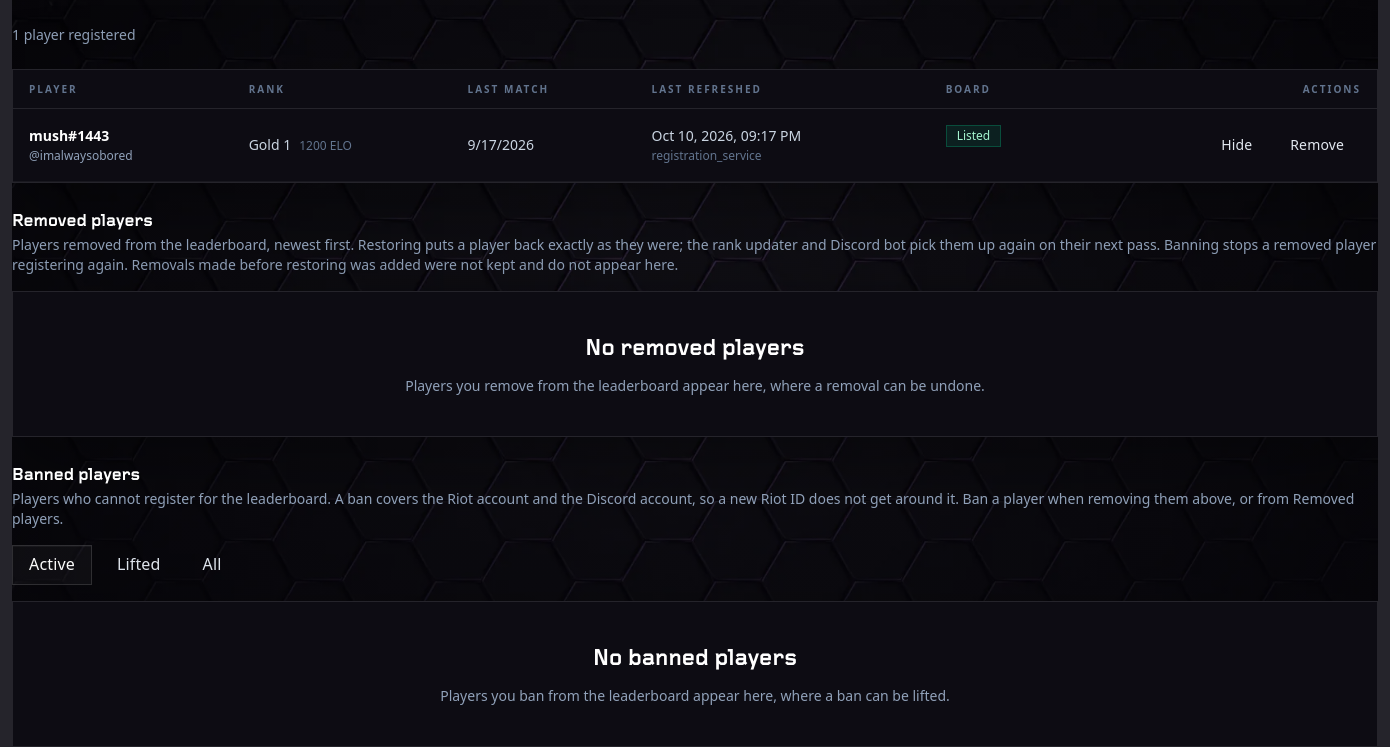
banned players panel › switches to lifted bans
This screenshot has width=1390, height=747.
(page scrolled)
Expected: the heading "No banned players" is shown, top-left (593, 643), bottom-right (797, 673)
Click the button "Lifted" at (139, 565), box top-left (100, 545), bottom-right (178, 585)
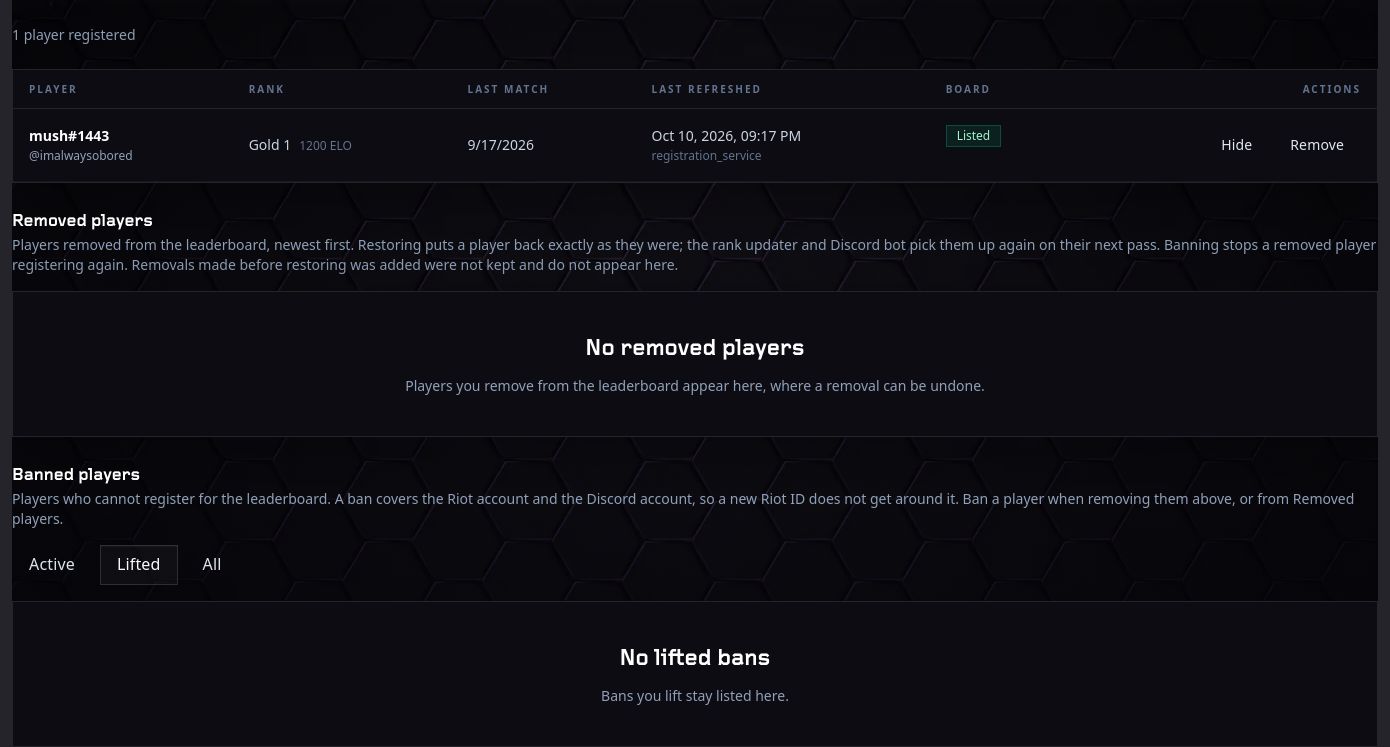
Result: the heading "No lifted bans" is shown at top-left (620, 643), bottom-right (771, 673)
